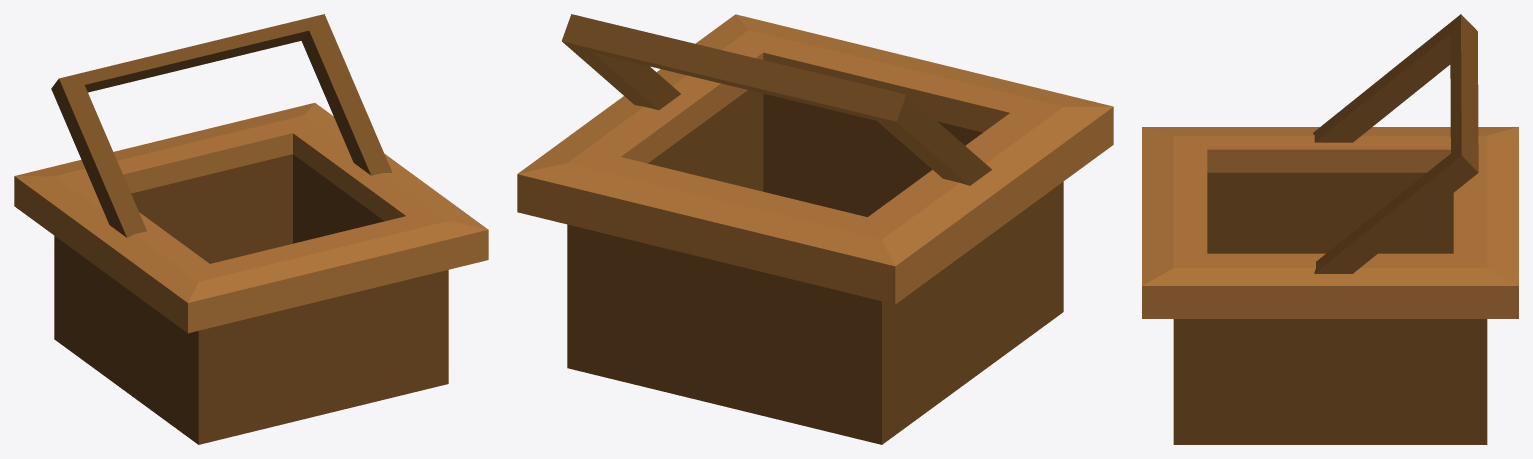
File: basket.fbx
3 views of the same model, side by side, from view 1: azimuth 30°, elevation 25°; view 2: azimuth 150°, elevation 25°; view 3: azimuth 270°, elevation 25° (orthographic). The views are drawn at different scales.
Visible parts, largest first — view 1: Cube; view 2: Cube; view 3: Cube.
Boxes of the visible parts, left/top/right/bottom form: Cube: left=14, top=14, right=488, bottom=444; Cube: left=517, top=14, right=1113, bottom=444; Cube: left=1142, top=14, right=1518, bottom=444.
Bounding box in the file's own units: 240 × 207 × 240.
